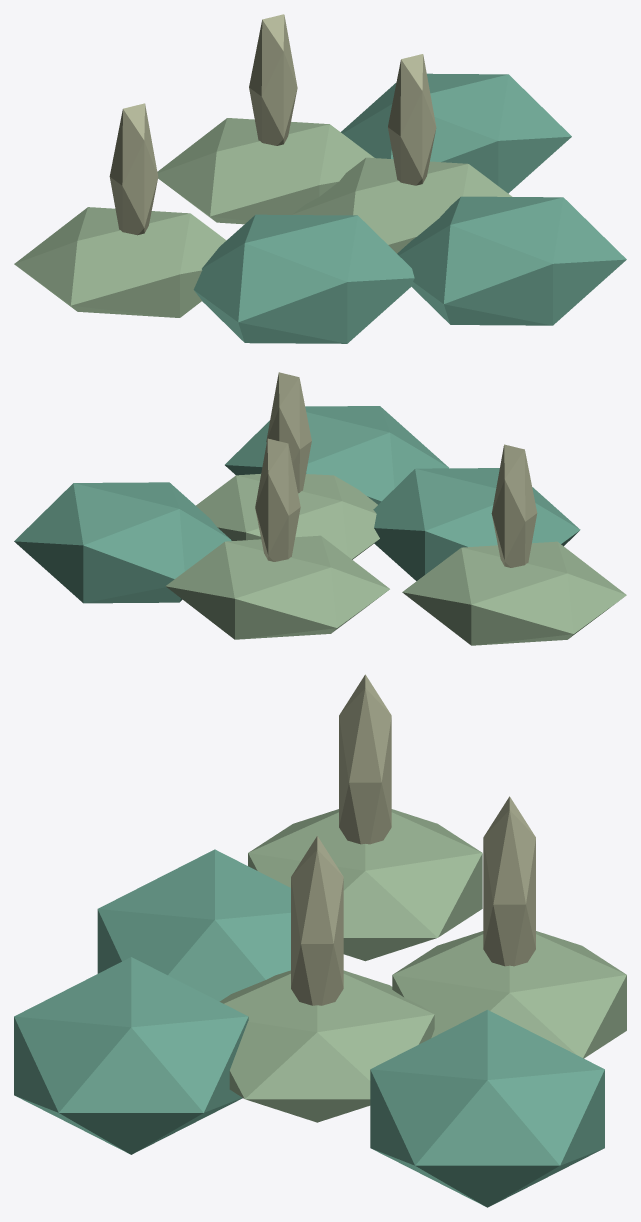
The model's file is plant-glowMoss.glb.
The picture shows the model from 3 angles, top to bottom: view 1: azimuth 30°, elevation 25°; view 2: azimuth 150°, elevation 25°; view 3: azimuth 270°, elevation 25°; orthographic projection. The views are drawn at different scales.
Parts seen in each view (by area): view 1: plant-glowMoss; view 2: plant-glowMoss; view 3: plant-glowMoss.
Boxes of the visible parts, left/top/right/bottom form: plant-glowMoss: left=14, top=14, right=626, bottom=343; plant-glowMoss: left=14, top=372, right=626, bottom=645; plant-glowMoss: left=14, top=674, right=626, bottom=1207.
Bounding box in the file's own units: 1.17 × 0.4217 × 0.889.
